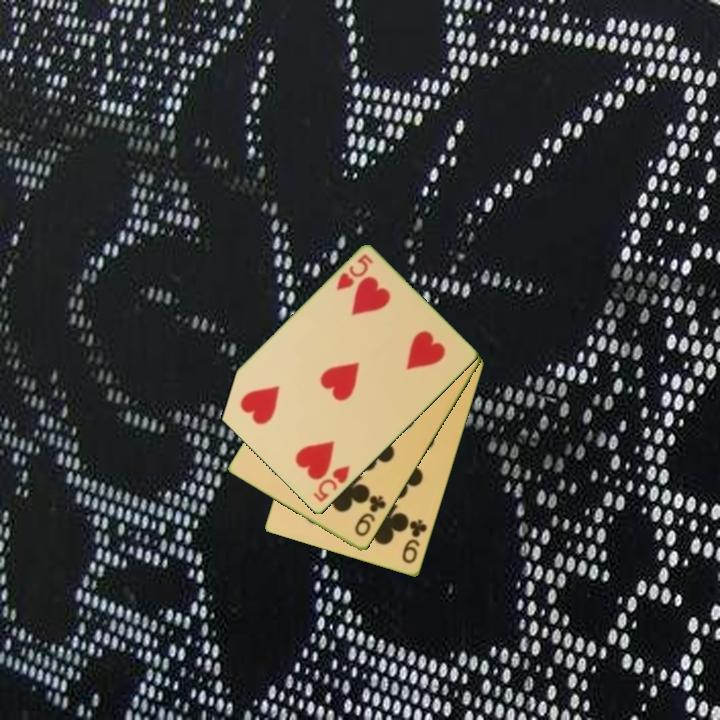5h: (310, 462, 353, 505), (333, 251, 376, 294)
9c: (351, 492, 389, 540), (398, 516, 430, 567)
